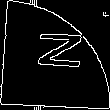N_W: (27, 33, 83, 77)
